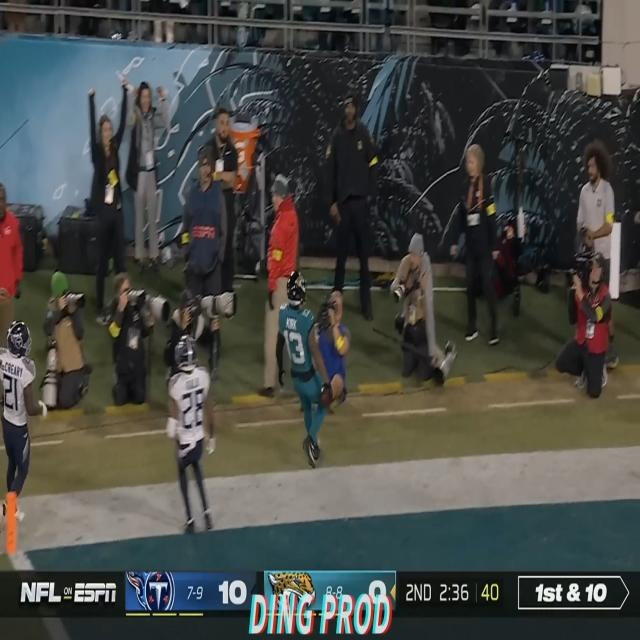football: (320, 382, 333, 410)
players: (276, 271, 352, 477), (164, 323, 221, 542), (0, 316, 38, 536)
